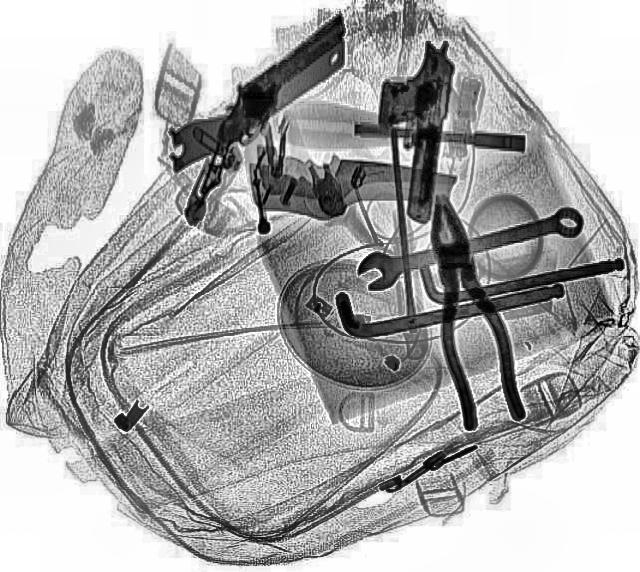Gun: (358, 32, 458, 224)
Pliers: (407, 185, 528, 432)
Wrench: (350, 202, 590, 292)
